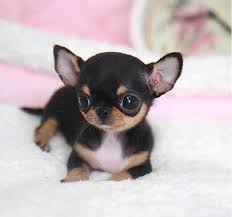chihuahua: (21, 36, 192, 187)
